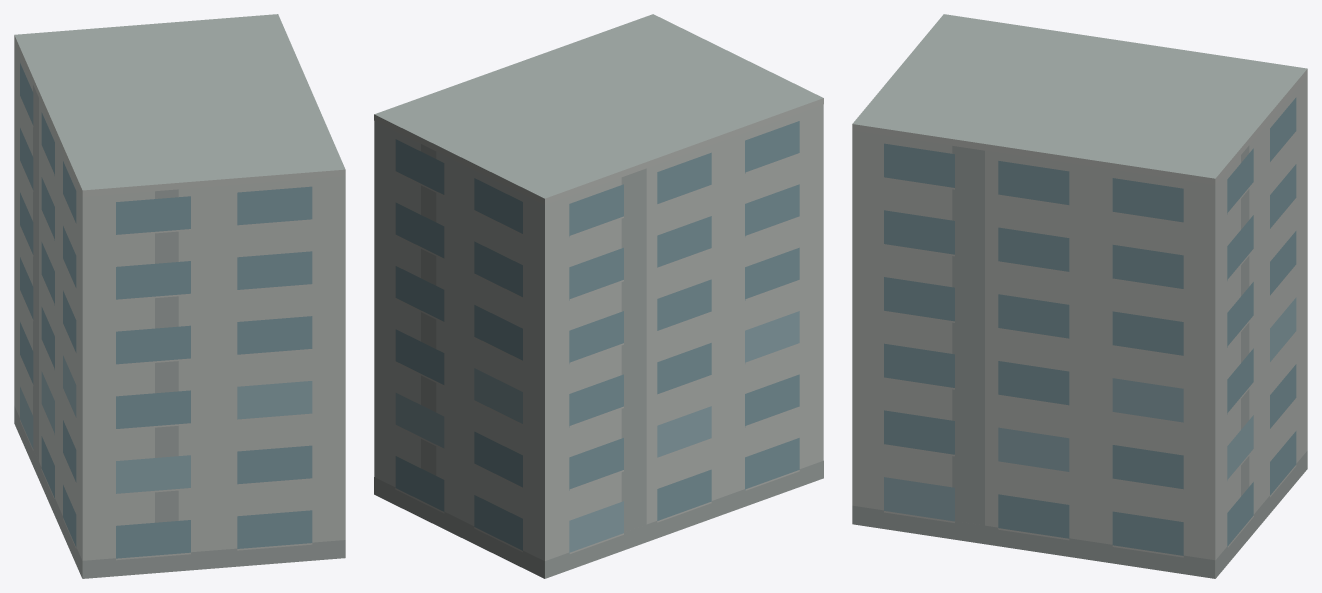
Rendered from survey-upis-32883316.glb.
3 renders of one model, left to right at view 1: azimuth 30°, elevation 25°; view 2: azimuth 150°, elevation 25°; view 3: azimuth 270°, elevation 25°, orthographic. The views are drawn at different scales.
Visible parts, largest first — view 1: survey-upis-32883316.tmp; view 2: survey-upis-32883316.tmp; view 3: survey-upis-32883316.tmp.
Part boxes in pixels (x1,y1,x2,y2): survey-upis-32883316.tmp: (14, 14, 345, 578); survey-upis-32883316.tmp: (374, 14, 823, 578); survey-upis-32883316.tmp: (852, 14, 1307, 578).
Bounding box in the file's own units: 12.76 × 14.45 × 14.91.
